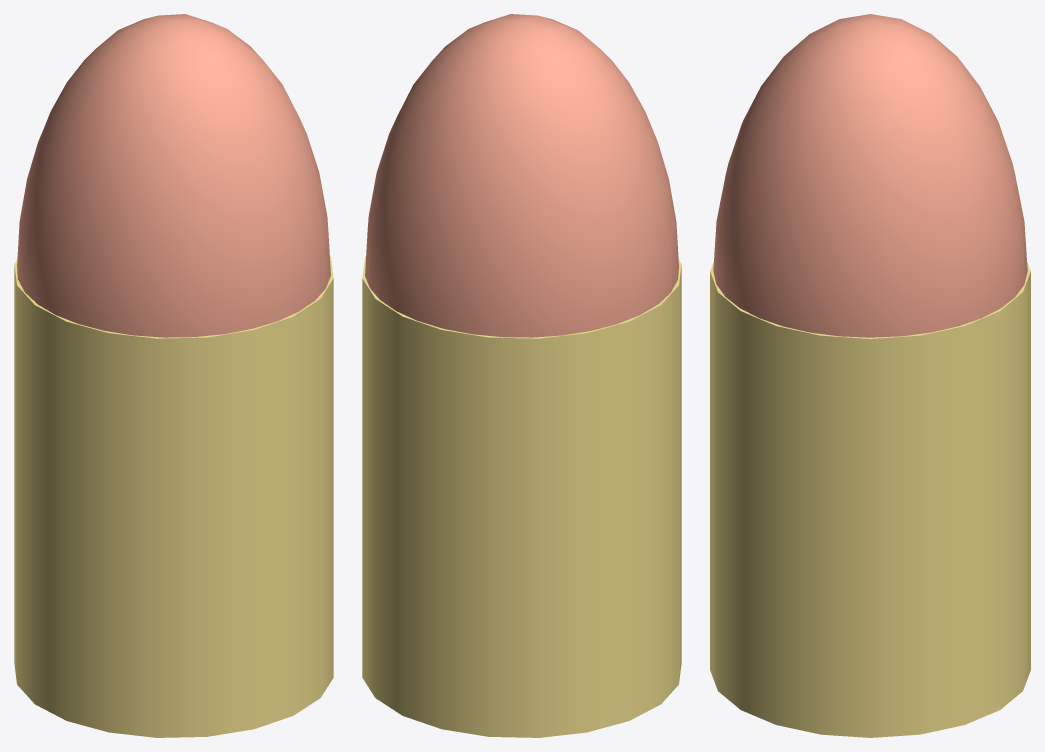
File: Pistol Bullet.fbx
The picture shows the model from 3 angles, left to right: view 1: azimuth 30°, elevation 25°; view 2: azimuth 150°, elevation 25°; view 3: azimuth 270°, elevation 25°; orthographic projection.
Visible parts, largest first — view 1: Cylinder, Sphere; view 2: Cylinder, Sphere; view 3: Cylinder, Sphere.
Boxes of the visible parts, x1,y1,x2,y2 form: Cylinder: [14, 256, 333, 737]; Sphere: [17, 14, 330, 337]; Cylinder: [362, 256, 681, 737]; Sphere: [365, 14, 678, 337]; Cylinder: [710, 261, 1030, 737]; Sphere: [713, 14, 1027, 337].
Bounding box in the file's own units: 2.55 × 5.69 × 2.55.
